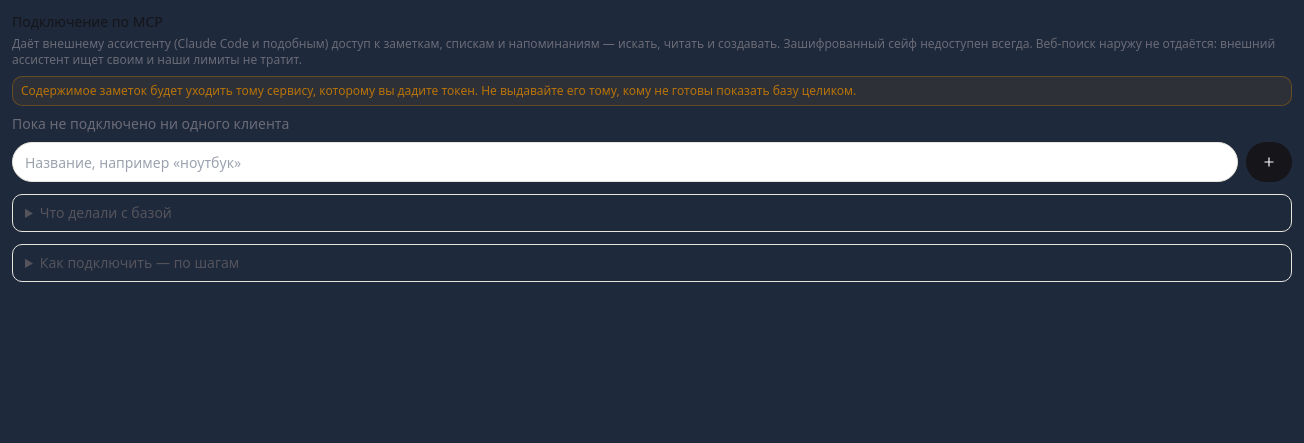
Test: создание токена › показывает токен и готовую команду
This screenshot has width=1304, height=443.
Type "ноутбук" into the field with placeholder "Название, например «ноутбук»" at [625, 162], box [12,142,1238,182]
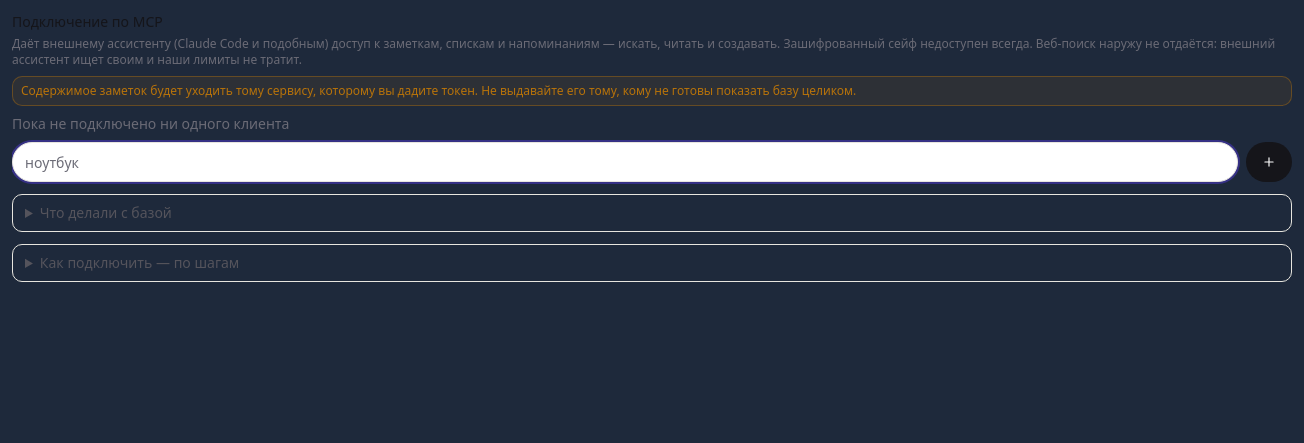
Click the button at [1269, 162], box [1246,142,1292,182]
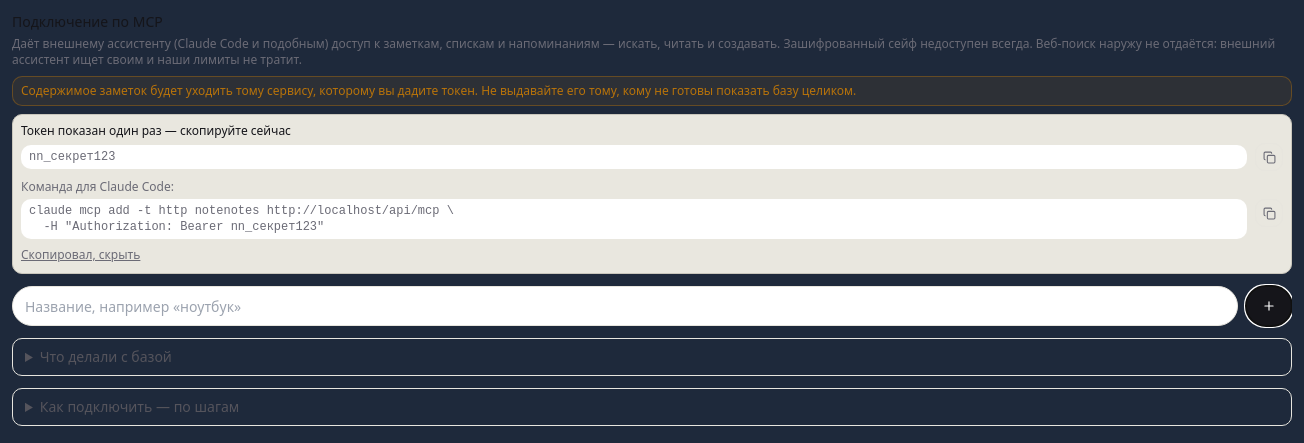
Expected: the text "nn_секрет123" is shown, [21,145,1247,169]
Expected: the text "claude mcp add -t http notenotes" is shown, [29,204,454,234]
